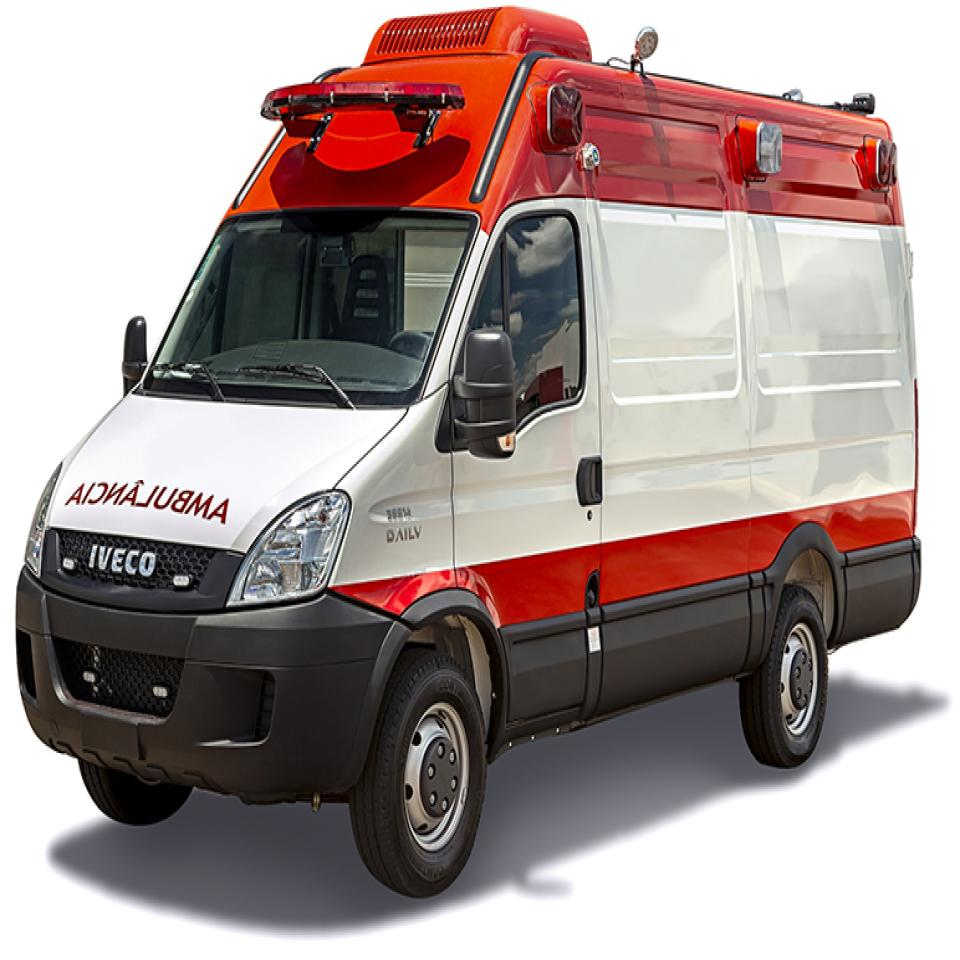bombeiro: (13, 4, 922, 898)
